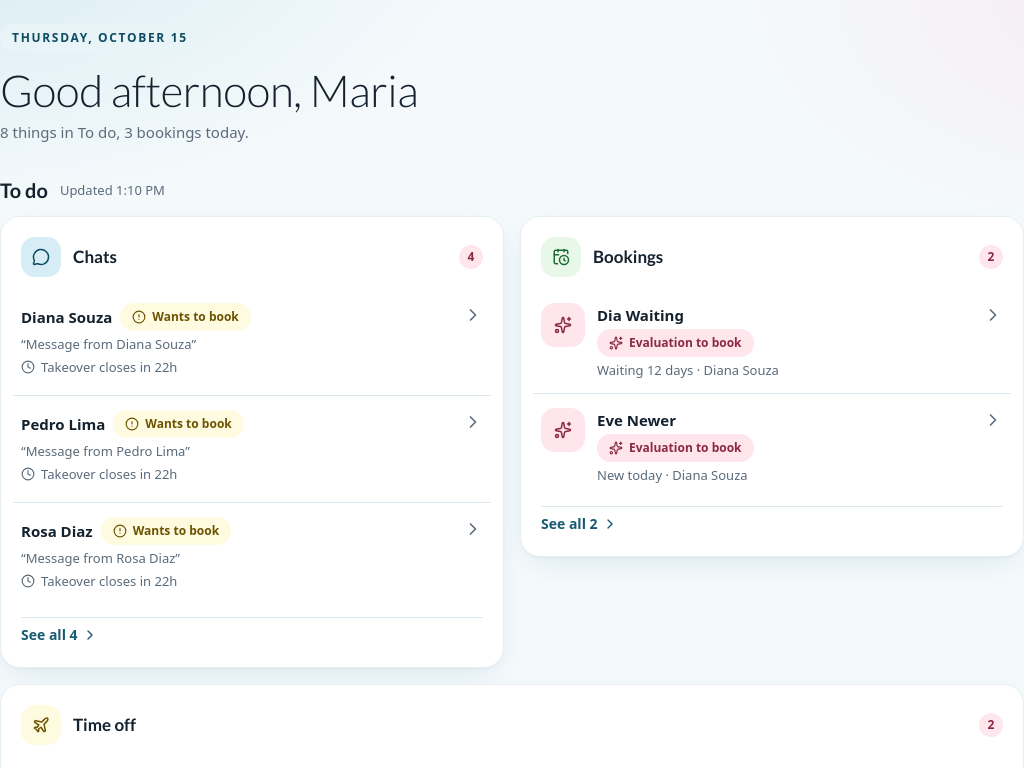
Test case: To do cards › says a Child with no home can only be booked in office
Click the button "Eve Newer Evaluation to book New today · Diana Souza": (563, 430) [533,398,1011,494]
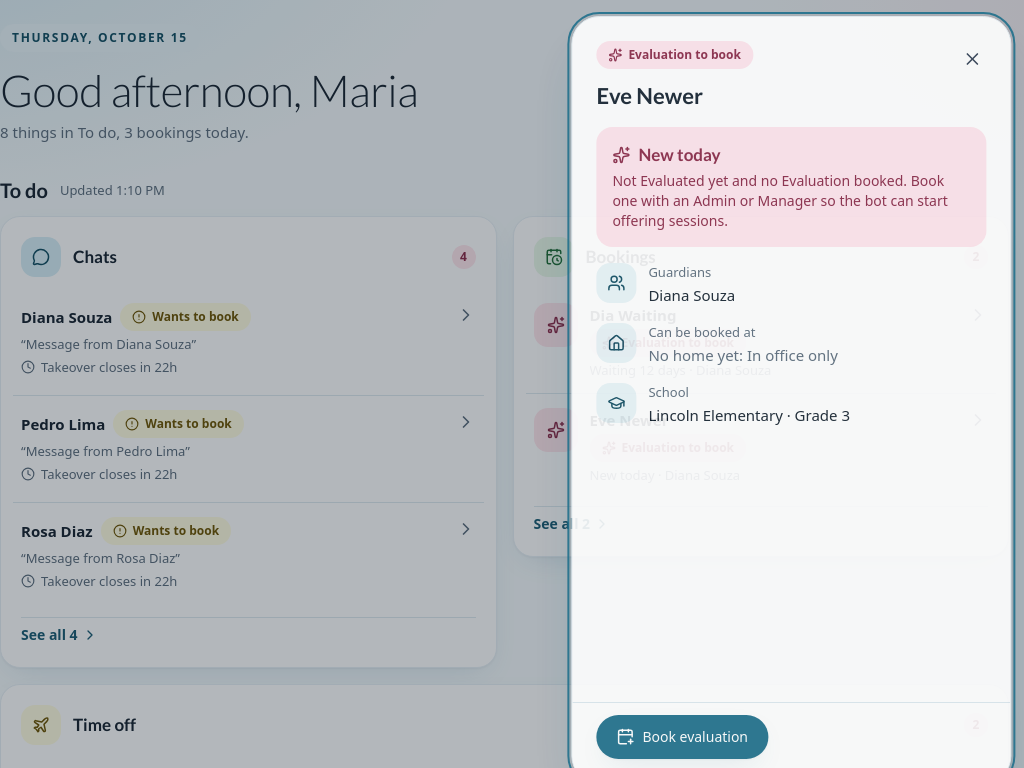
Result: the heading "New today" is shown at [610,144,718,165]
Result: the text "No home yet: In office only" is shown at [646,345,836,365]
